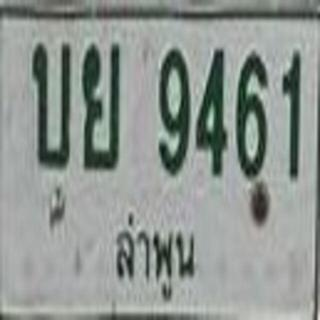A26: (29, 34, 76, 171)
A34: (76, 35, 129, 174)
N01: (276, 43, 309, 186)
N04: (194, 41, 232, 180)
N06: (232, 44, 274, 182)
N09: (151, 41, 195, 180)
P21: (107, 206, 204, 304)
